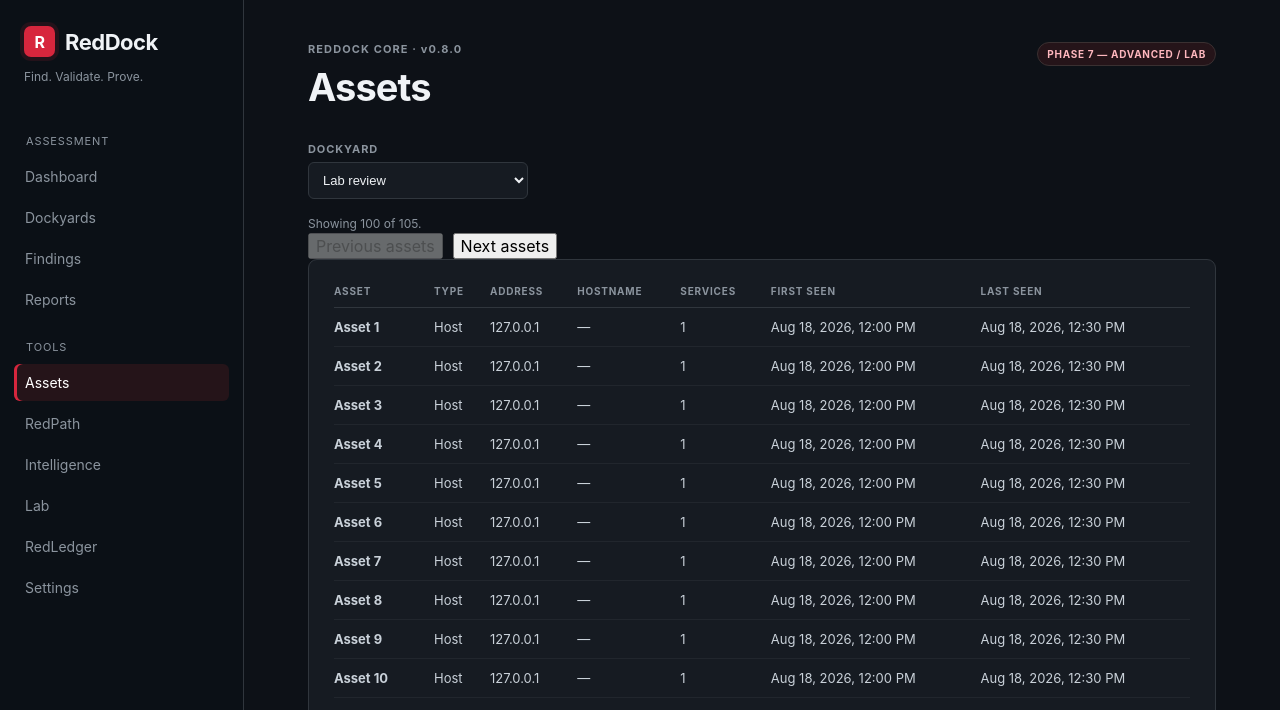
Test case: RedDock application › pages the asset inventory without hiding older records
Expected: the text "Showing 100 of 105." is shown, top-left (308, 216), bottom-right (422, 231)
Click the button "Next assets".
click(505, 246)  # box top-left (453, 233), bottom-right (557, 259)
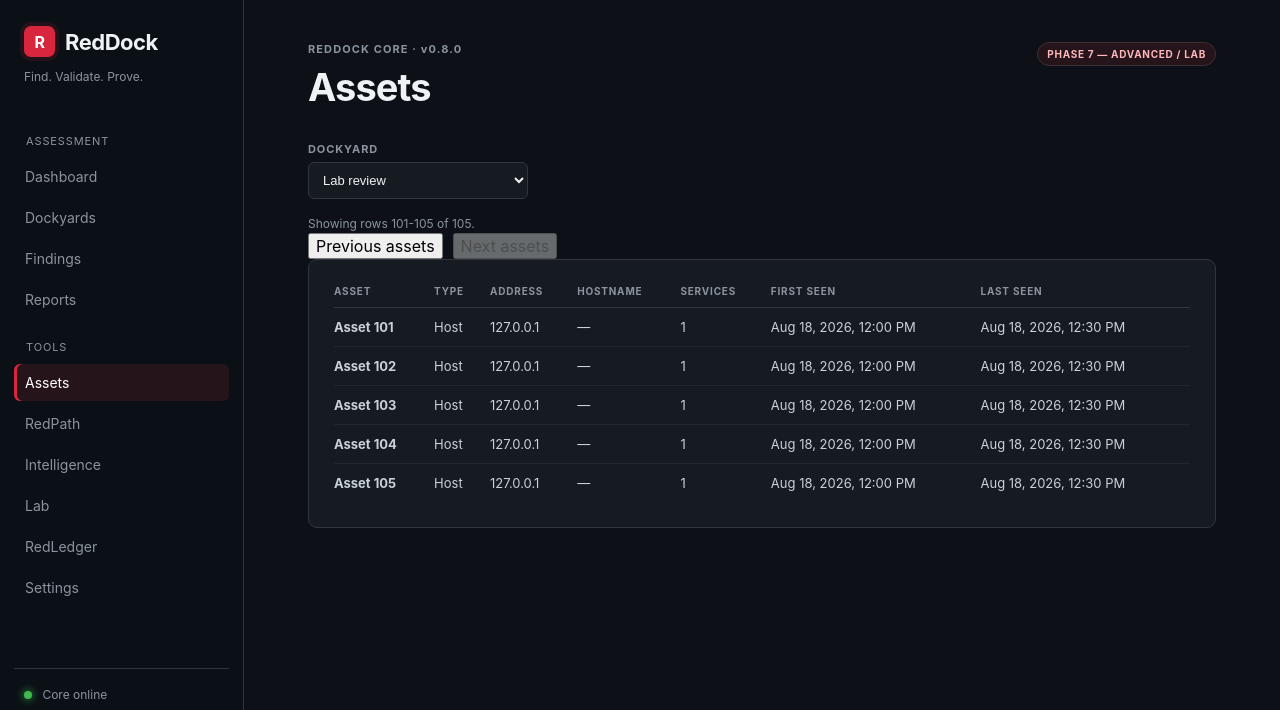
Expected: the text "Showing rows 101-105 of 105." is shown, top-left (308, 216), bottom-right (475, 231)
Expected: the text "Asset 105" is shown, top-left (334, 475), bottom-right (396, 491)
Click the button "Previous assets".
click(375, 246)  # box top-left (308, 233), bottom-right (443, 259)
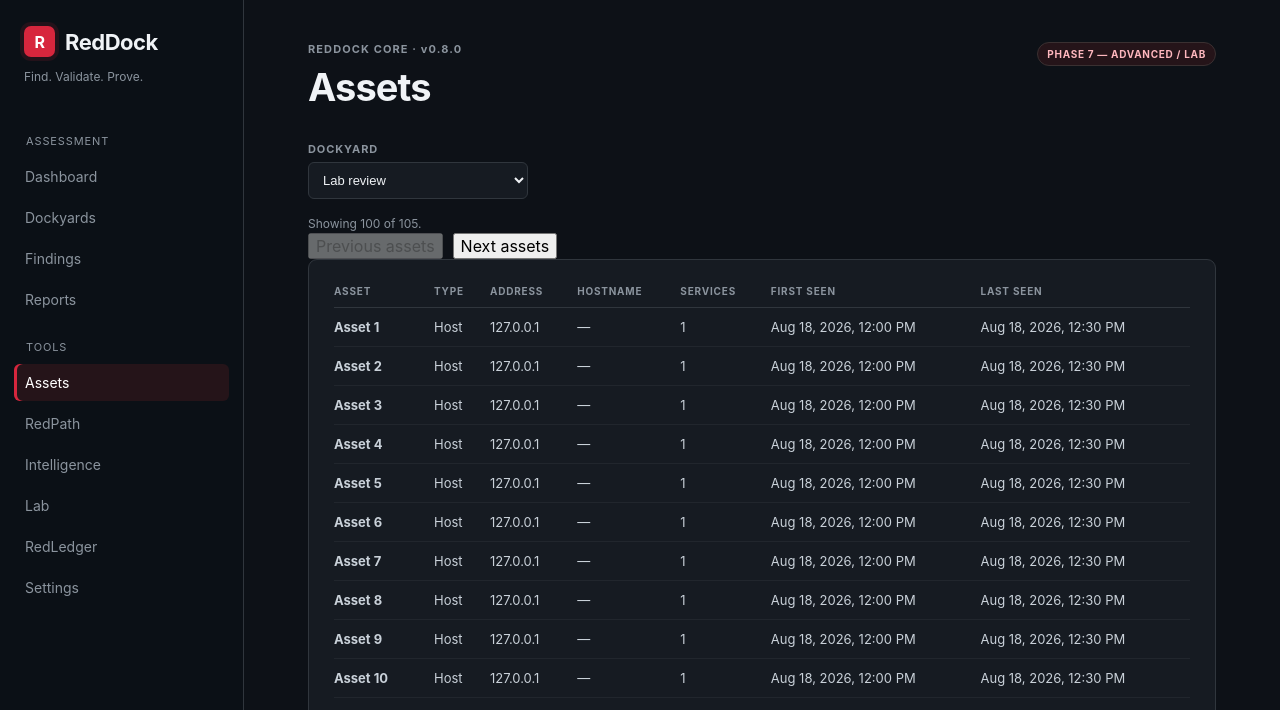
Expected: the text "Showing 100 of 105." is shown, top-left (308, 216), bottom-right (422, 231)
